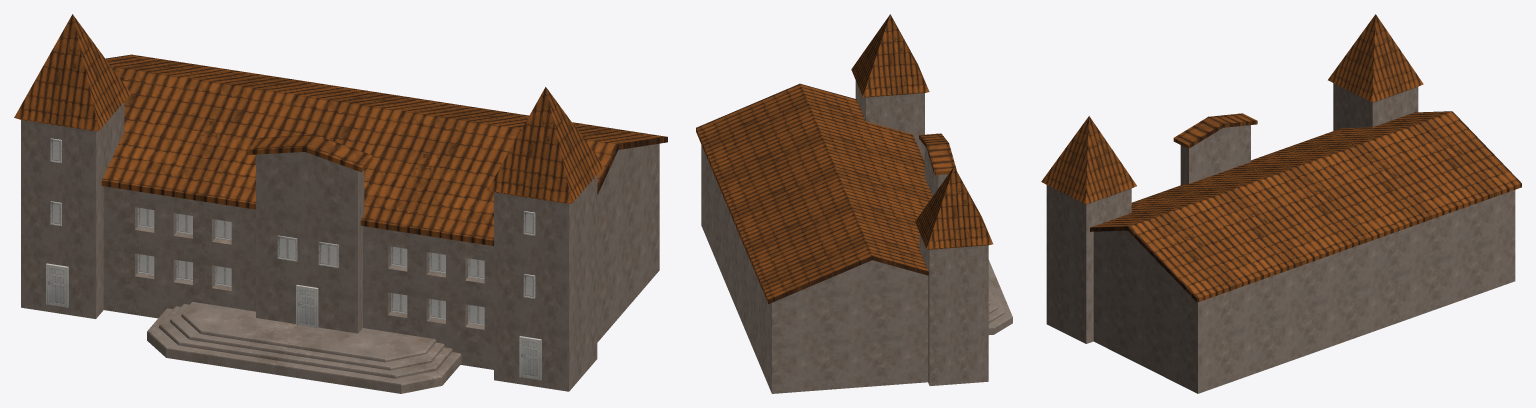
Rendered from Ayutamiento.fbx.
3 views of the same model, side by side, from view 1: azimuth 30°, elevation 25°; view 2: azimuth 150°, elevation 25°; view 3: azimuth 270°, elevation 25° (orthographic). The views are drawn at different scales.
Parts seen in each view (by area): view 1: Ayuntamiento; view 2: Ayuntamiento; view 3: Ayuntamiento.
Boxes of the visible parts, x1,y1,x2,y2 form: Ayuntamiento: [14, 14, 667, 393]; Ayuntamiento: [696, 14, 1012, 393]; Ayuntamiento: [1041, 14, 1521, 393].
Bounding box in the file's own units: 27.72 × 14.11 × 29.22.
